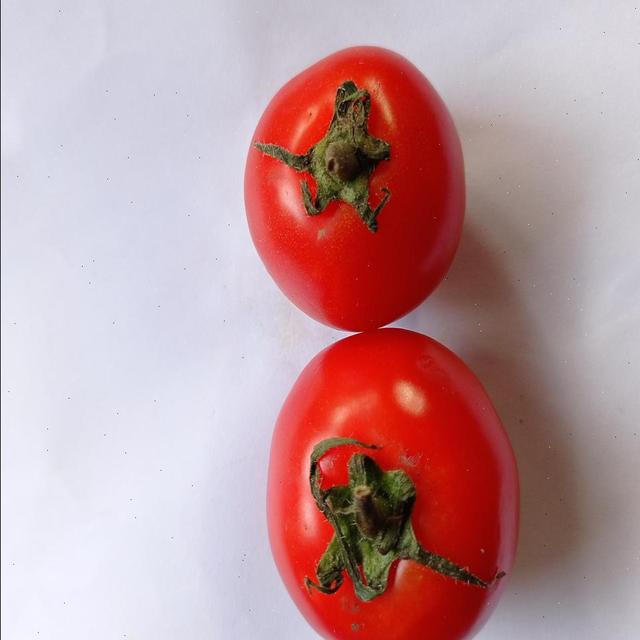Healthy Fruit: (158, 122, 264, 320)
